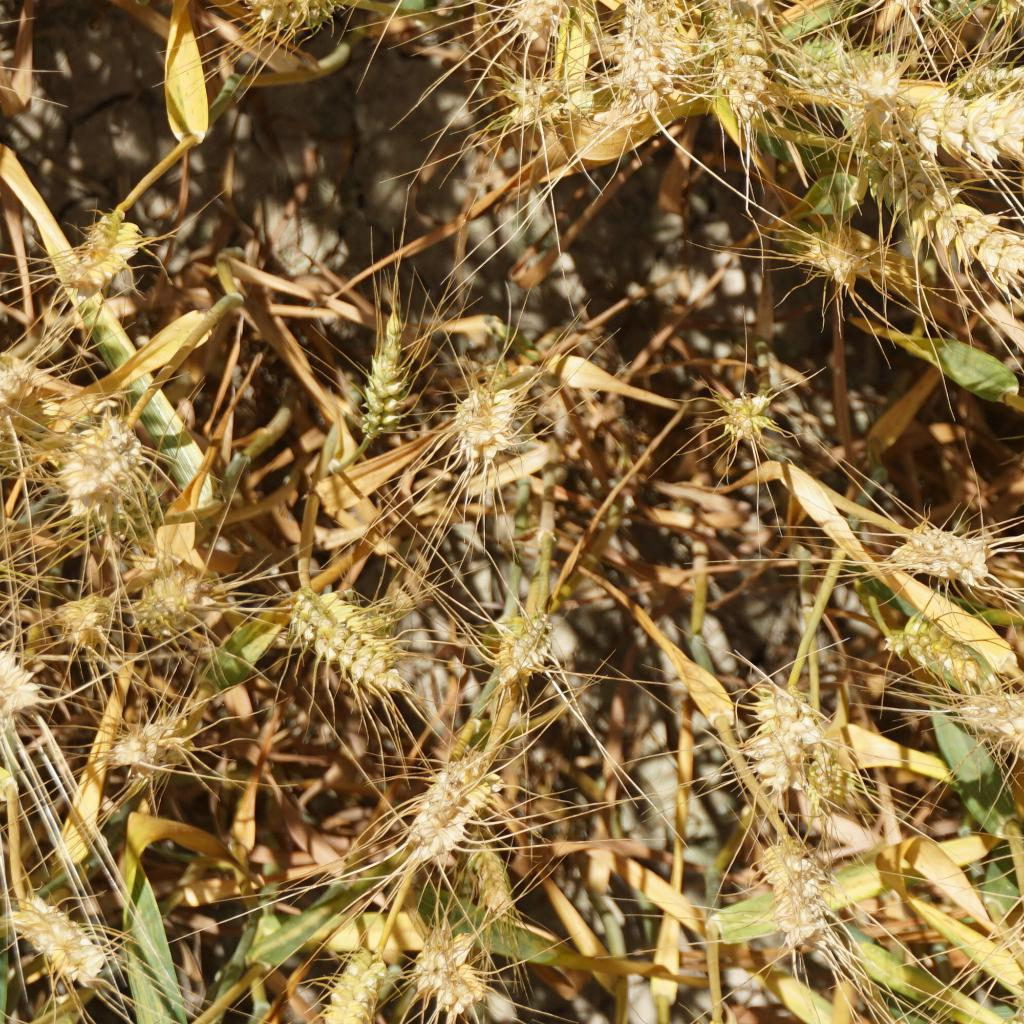0-0: (863, 139, 1024, 285), (271, 570, 420, 713), (744, 828, 853, 961), (0, 883, 120, 996), (384, 745, 497, 856), (773, 691, 861, 825), (907, 88, 1024, 182), (49, 406, 147, 510), (872, 503, 994, 583), (743, 678, 828, 792), (694, 0, 769, 115), (791, 33, 904, 109), (363, 299, 422, 442), (608, 3, 678, 123), (446, 367, 529, 468), (408, 927, 495, 1020), (64, 199, 145, 290), (891, 606, 982, 683), (0, 598, 53, 723), (463, 842, 532, 934), (781, 217, 865, 291), (104, 707, 181, 778), (323, 940, 388, 1024), (493, 607, 565, 679), (500, 60, 574, 128), (129, 567, 195, 643), (54, 588, 122, 652), (709, 386, 776, 449), (961, 693, 1024, 758), (0, 350, 38, 453), (524, 0, 589, 55), (252, 0, 356, 32), (949, 54, 1024, 97), (1012, 969, 1024, 1024)
